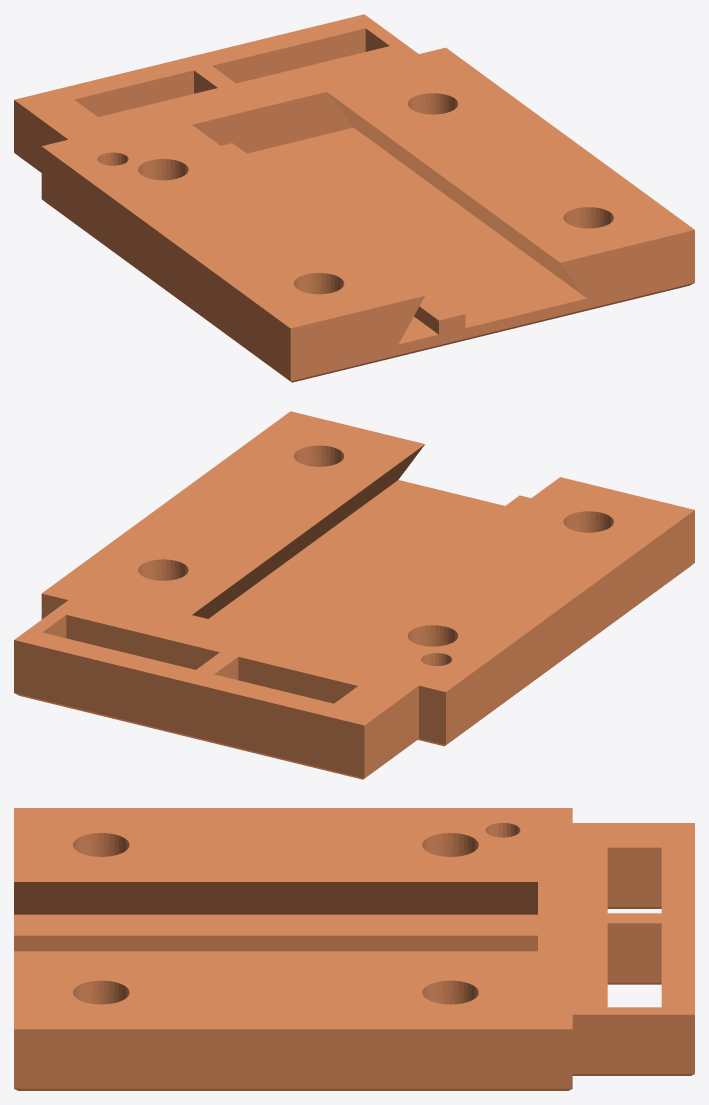
File: top_interface.glb
3 views of the same model, one above another, from view 1: azimuth 30°, elevation 25°; view 2: azimuth 150°, elevation 25°; view 3: azimuth 270°, elevation 25° (orthographic). The views are drawn at different scales.
Parts seen in each view (by area): view 1: top_interface; view 2: top_interface; view 3: top_interface.
Boxes of the visible parts, box(x1,y1,x2,y2) form: top_interface: box(14, 14, 694, 382); top_interface: box(14, 411, 694, 779); top_interface: box(14, 808, 694, 1090).
Bounding box in the file's own units: 0.06 × 0.008 × 0.078.
